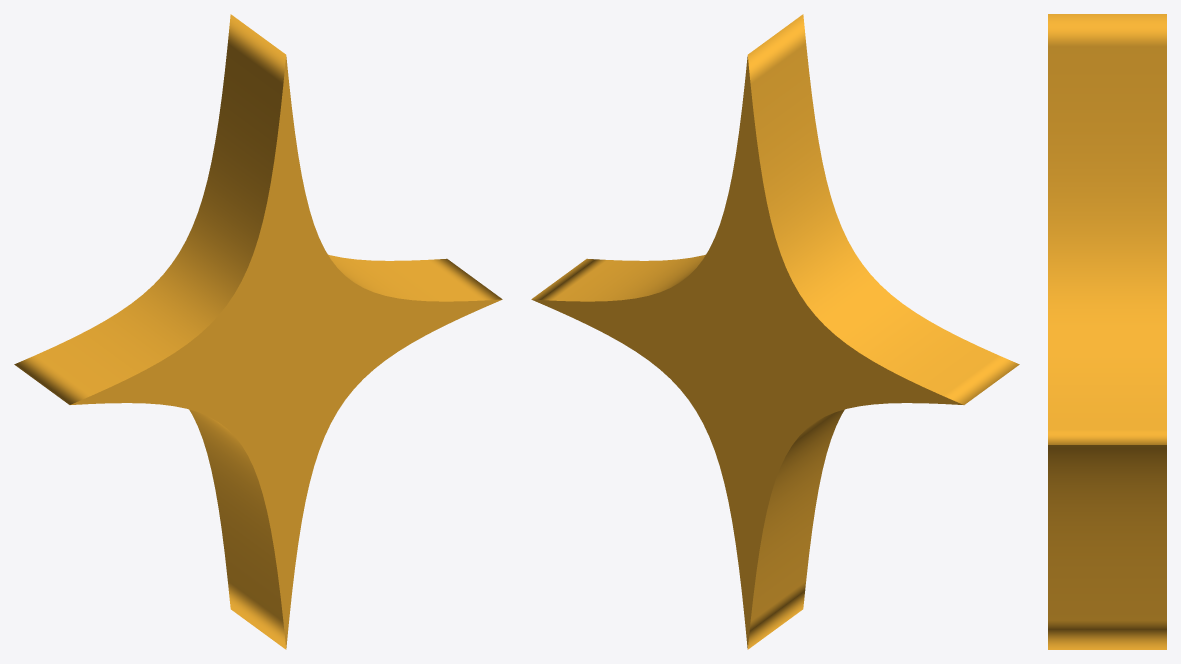
File: star.glb
The picture shows the model from 3 angles, left to right: view 1: azimuth 30°, elevation 25°; view 2: azimuth 150°, elevation 25°; view 3: azimuth 270°, elevation 25°; orthographic projection. The views are drawn at different scales.
Parts seen in each view (by area): view 1: Curve.001; view 2: Curve.001; view 3: Curve.001.
Part boxes in pixels (<box>): Curve.001: <box>14,14,502,649</box>; Curve.001: <box>531,14,1019,649</box>; Curve.001: <box>1048,14,1166,649</box>.
Bounding box in the file's own units: 26.03 × 34.18 × 5.79.
